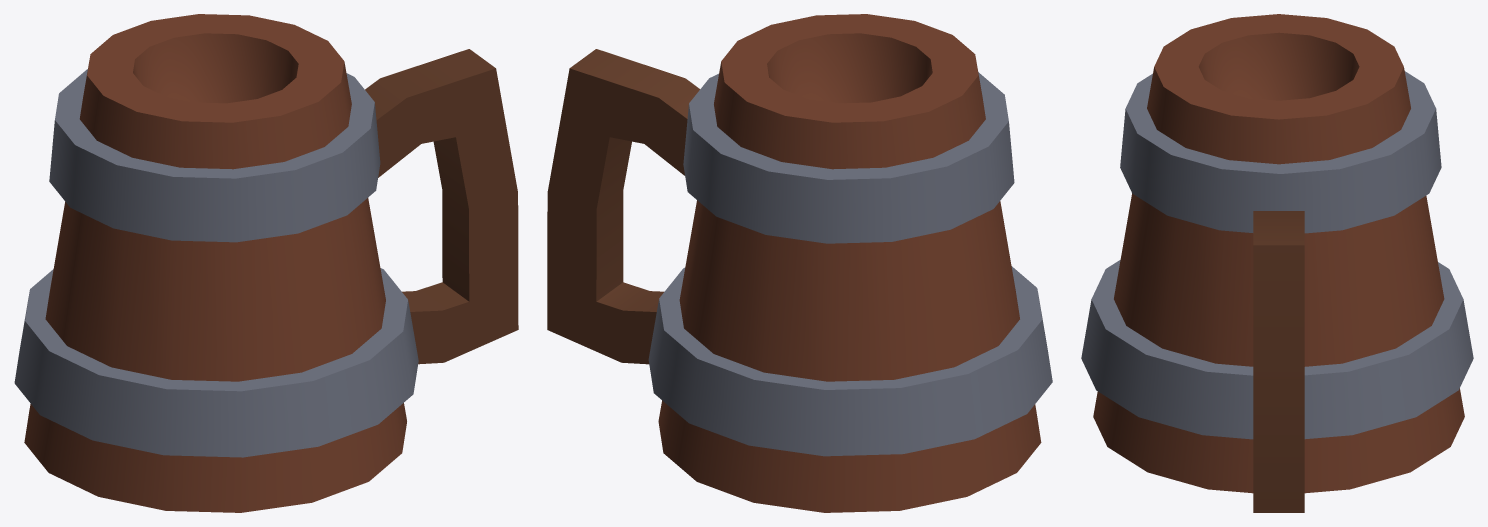
File: cstl_cup_01.fbx
3 renders of one model, left to right at view 1: azimuth 30°, elevation 25°; view 2: azimuth 150°, elevation 25°; view 3: azimuth 270°, elevation 25°, orthographic. The views are drawn at different scales.
Parts seen in each view (by area): view 1: cstl_cup_01; view 2: cstl_cup_01; view 3: cstl_cup_01.
Boxes of the visible parts, x1,y1,x2,y2 form: cstl_cup_01: [14, 14, 518, 512]; cstl_cup_01: [547, 14, 1052, 512]; cstl_cup_01: [1081, 14, 1473, 512].
Bounding box in the file's own units: 66.72 × 49.77 × 50.56.
